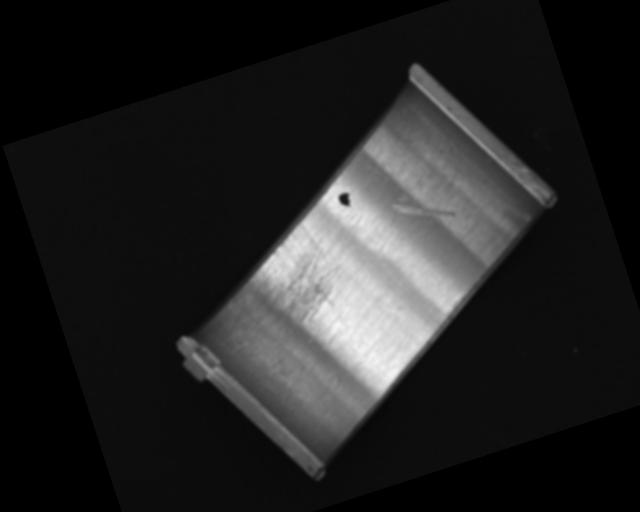blot: (336, 190, 353, 210)
nick: (388, 178, 456, 234), (362, 157, 405, 232)
scratch: (218, 212, 355, 342)
